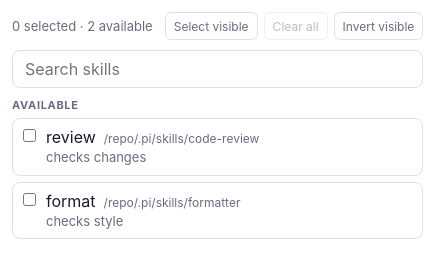
SkillPicker › filters skills by directory name when the skill name differs
Type "CODE-REVIEW" into the field with class "skill-picker-search". click: (218, 69)
box: [12,50,423,88]
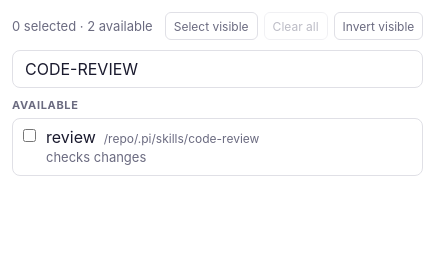
Check: the elements with class "skill-option-name" read "review", in this order, box [46,127,96,147]
